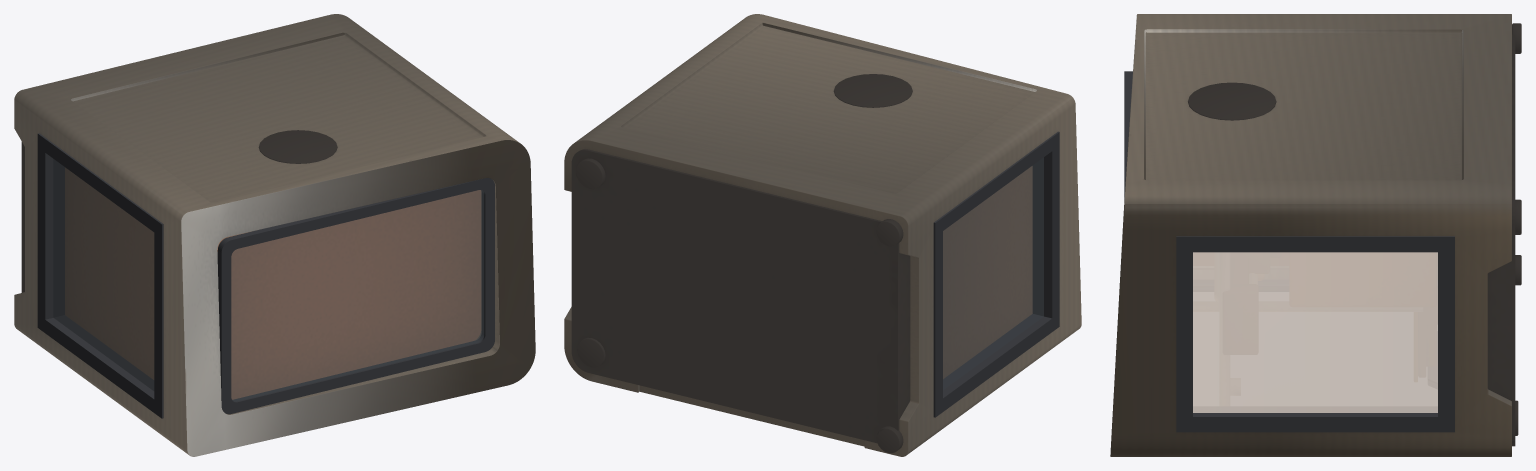
Rendered from deltrol_p2s_explorer_v10.glb.
The picture shows the model from 3 angles, left to right: view 1: azimuth 30°, elevation 25°; view 2: azimuth 150°, elevation 25°; view 3: azimuth 270°, elevation 25°; orthographic projection. The views are drawn at different scales.
Visible parts, largest first — view 1: unibody_shell, top_roof_glass, interior_ceiling_liner, left_glass_window, interior_left_back_baffle, left_window_gasket, top_rim_outer, rear_exhaust_shroud, chassis_recessed_plinth; view 2: unibody_shell, chassis_recessed_plinth, left_glass_window, interior_left_back_baffle, left_window_gasket, rear_exhaust_shroud, chassis_foot_2, chassis_foot_1, chassis_foot_3, chassis_foot_0; view 3: unibody_shell, right_glass_sheen, right_window_gasket, chassis_recessed_plinth, rear_exhaust_shroud, top_rim_outer.
Part boxes in pixels (left/top/right/bottom): unibody_shell: left=14, top=14, right=535, bottom=456; top_roof_glass: left=231, top=190, right=484, bottom=401; interior_ceiling_liner: left=217, top=190, right=481, bottom=399; left_glass_window: left=53, top=159, right=154, bottom=390; interior_left_back_baffle: left=65, top=167, right=154, bottom=379; left_window_gasket: left=37, top=133, right=163, bottom=418; top_rim_outer: left=217, top=178, right=494, bottom=414; rear_exhaust_shroud: left=258, top=130, right=337, bottom=163; chassis_recessed_plinth: left=21, top=142, right=24, bottom=292; unibody_shell: left=564, top=14, right=1081, bottom=456; chassis_recessed_plinth: left=571, top=149, right=910, bottom=443; left_glass_window: left=943, top=157, right=1043, bottom=389; interior_left_back_baffle: left=943, top=166, right=1032, bottom=378; left_window_gasket: left=933, top=131, right=1059, bottom=417; rear_exhaust_shroud: left=833, top=74, right=912, bottom=107; chassis_foot_2: left=576, top=158, right=605, bottom=189; chassis_foot_1: left=577, top=337, right=605, bottom=367; chassis_foot_3: left=876, top=219, right=903, bottom=246; chassis_foot_0: left=876, top=426, right=903, bottom=453; unibody_shell: left=1110, top=14, right=1511, bottom=456; right_glass_sheen: left=1193, top=252, right=1437, bottom=412; right_window_gasket: left=1176, top=236, right=1454, bottom=432; chassis_recessed_plinth: left=1487, top=34, right=1515, bottom=446; rear_exhaust_shroud: left=1188, top=82, right=1276, bottom=120; top_rim_outer: left=1124, top=71, right=1132, bottom=198.
Bounding box in the file's own units: 0.426 × 0.2951 × 0.3892.
9 materials, 5 textured.
